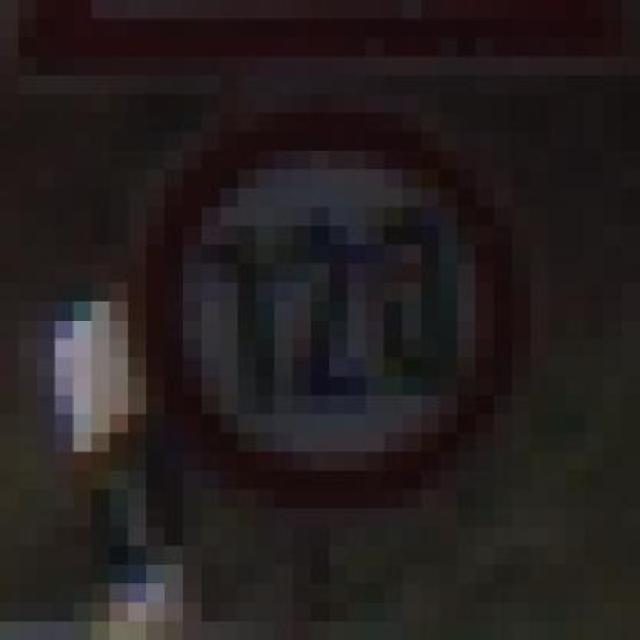forb_speed_over_120: (129, 108, 520, 508)
